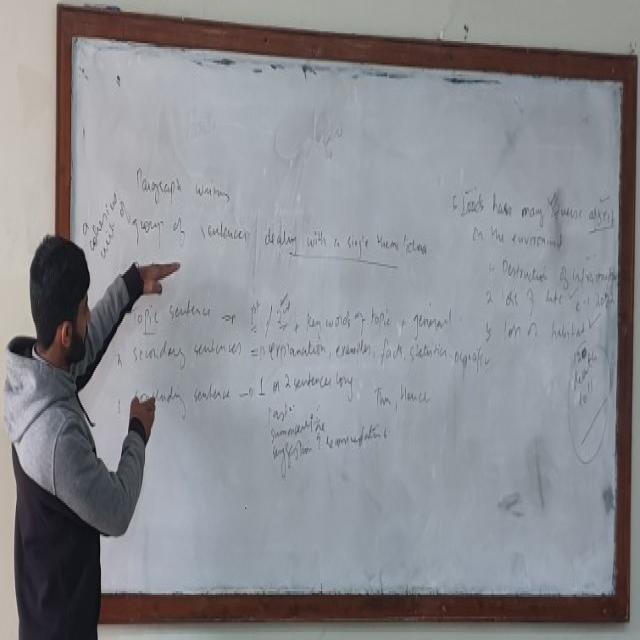Instructor: (9, 207, 111, 629)
White-board: (59, 23, 631, 609)
